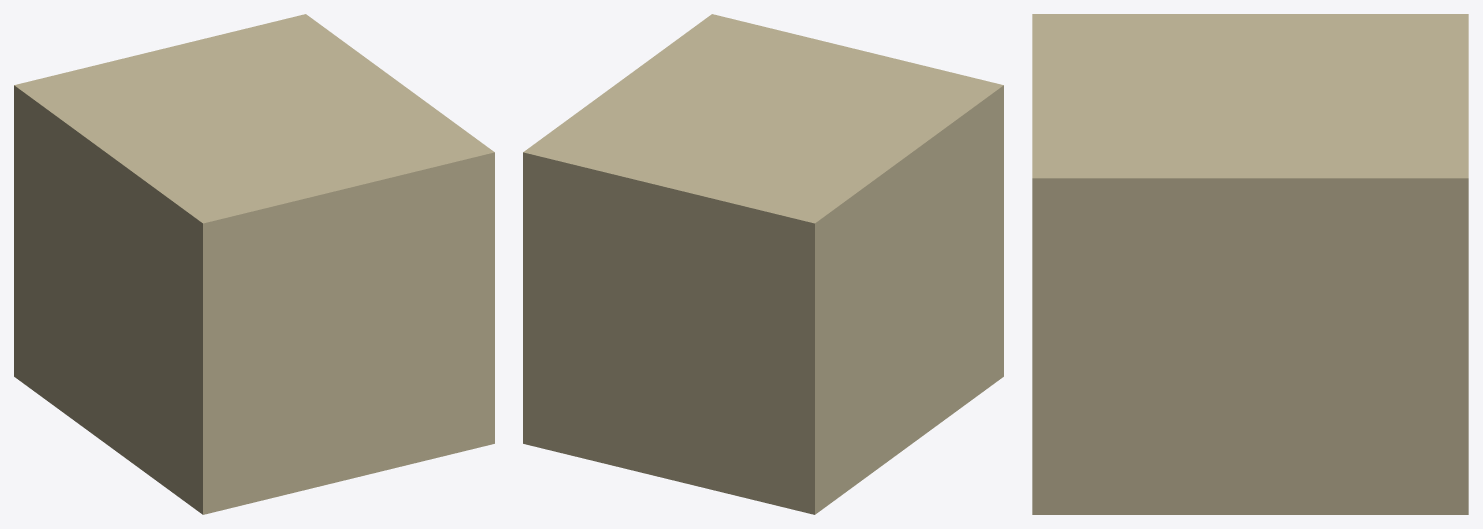
The model's file is nature_silvergrass_a_lod2.glb.
3 renders of one model, left to right at view 1: azimuth 30°, elevation 25°; view 2: azimuth 150°, elevation 25°; view 3: azimuth 270°, elevation 25°, orthographic. The views are drawn at different scales.
Parts seen in each view (by area): view 1: nature_silvergrass_a_lod2; view 2: nature_silvergrass_a_lod2; view 3: nature_silvergrass_a_lod2.
Part boxes in pixels (x1,y1,x2,y2): nature_silvergrass_a_lod2: [14, 14, 494, 514]; nature_silvergrass_a_lod2: [523, 14, 1003, 514]; nature_silvergrass_a_lod2: [1032, 14, 1468, 514].
Size of the model in its own units: 1.97 by 1.88 by 2.21.
